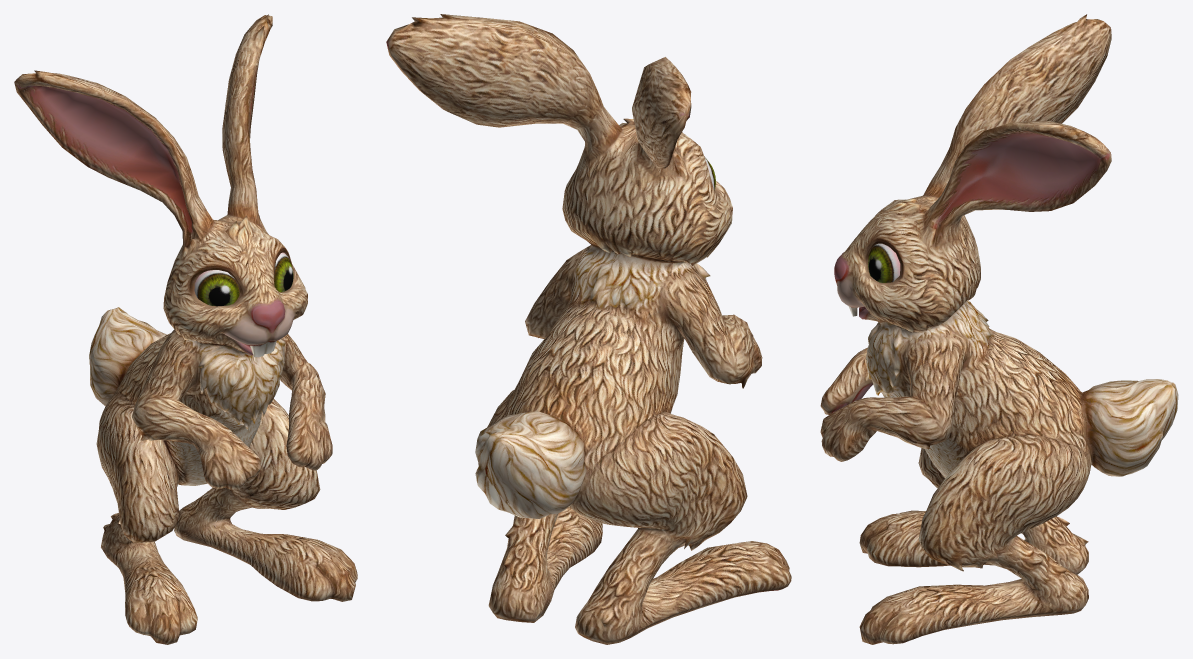
File: rabbit.obj
The picture shows the model from 3 angles, left to right: view 1: azimuth 30°, elevation 25°; view 2: azimuth 150°, elevation 25°; view 3: azimuth 270°, elevation 25°; orthographic projection. The views are drawn at different scales.
Visible parts, largest first — view 1: rabbit; view 2: rabbit; view 3: rabbit.
Boxes of the visible parts, x1,y1,x2,y2 form: rabbit: (14,14,357,644); rabbit: (386,14,791,644); rabbit: (820,14,1178,644).
Size of the model in its own units: 108 by 204 by 126.
1 material, 1 textured.
